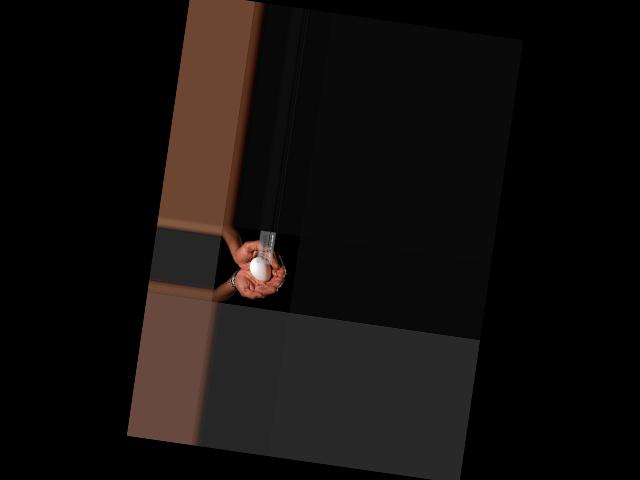egg: (247, 256, 273, 282)
